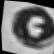correct: (4, 0, 54, 54)
